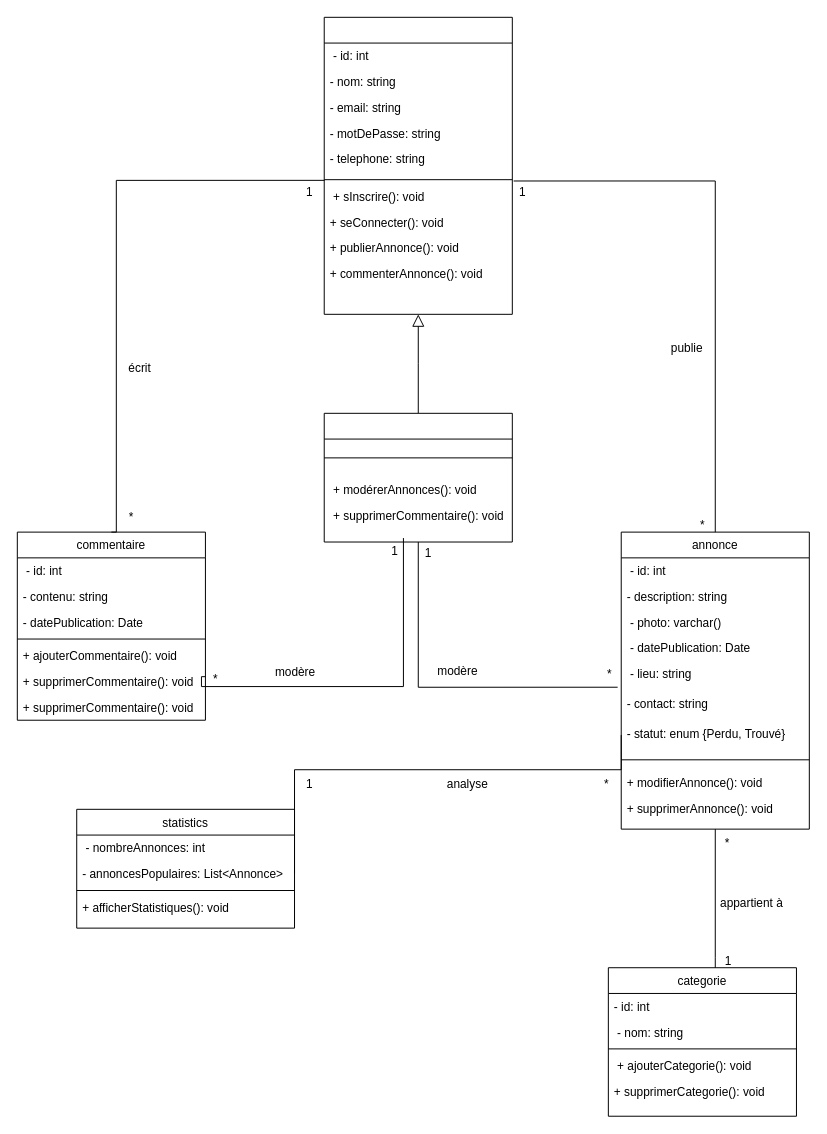
The diagram is 827 pixels wide and 1134 high, and some of its shapes have lost their labels. The shapes that lost their labels are listed below. From the top down, each one's box as (x1, y1, x2, y2) in pixels, then its label:
(323, 16, 512, 314): utilisateur
(323, 412, 512, 542): administrateur
